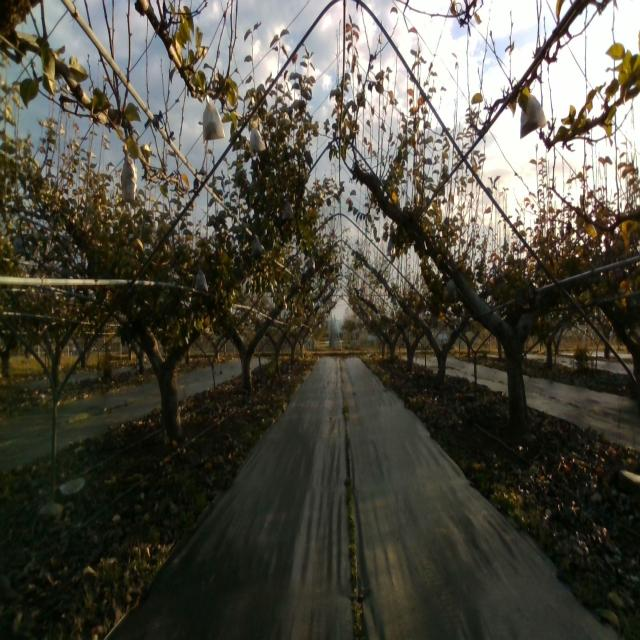pearbags: (202, 94, 225, 144), (520, 96, 546, 138), (120, 144, 138, 202), (195, 263, 209, 293), (444, 276, 457, 300), (251, 235, 263, 261), (281, 198, 294, 219)
